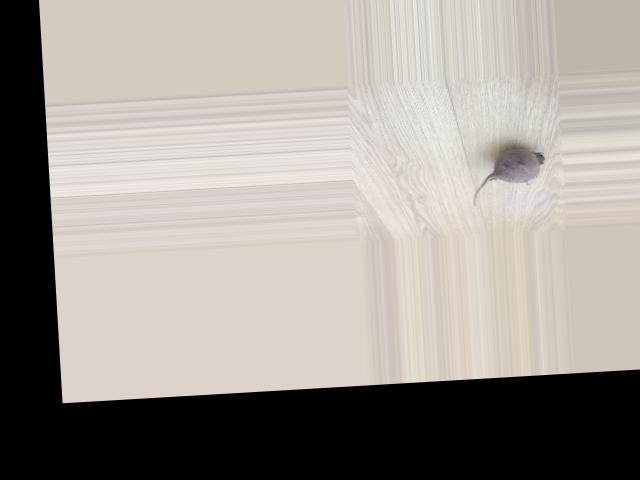beet: (468, 146, 545, 206)
